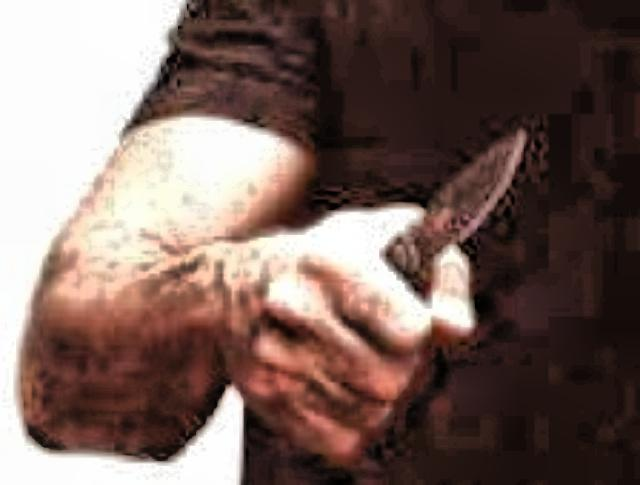knife: (289, 109, 531, 391)
